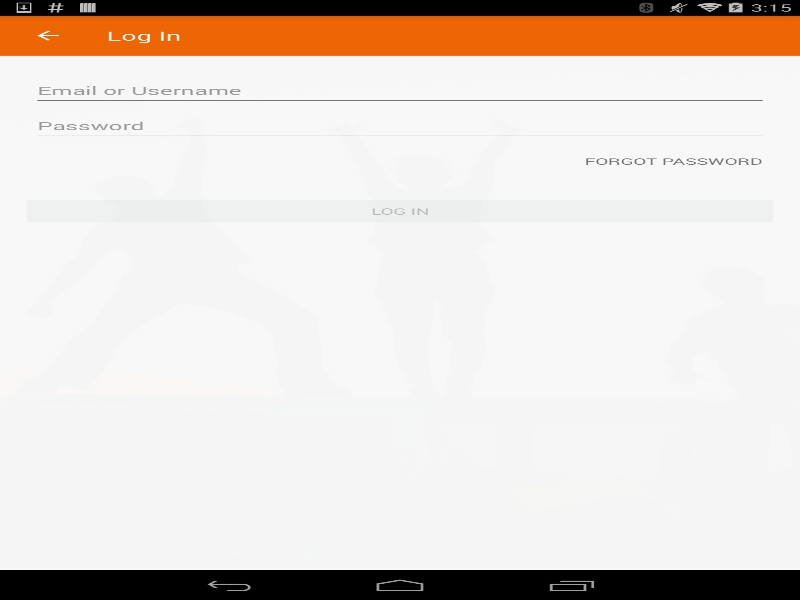Button: (21, 196, 778, 226), (568, 146, 778, 176), (10, 15, 85, 55)
Input: (32, 112, 768, 141), (32, 77, 768, 105)
